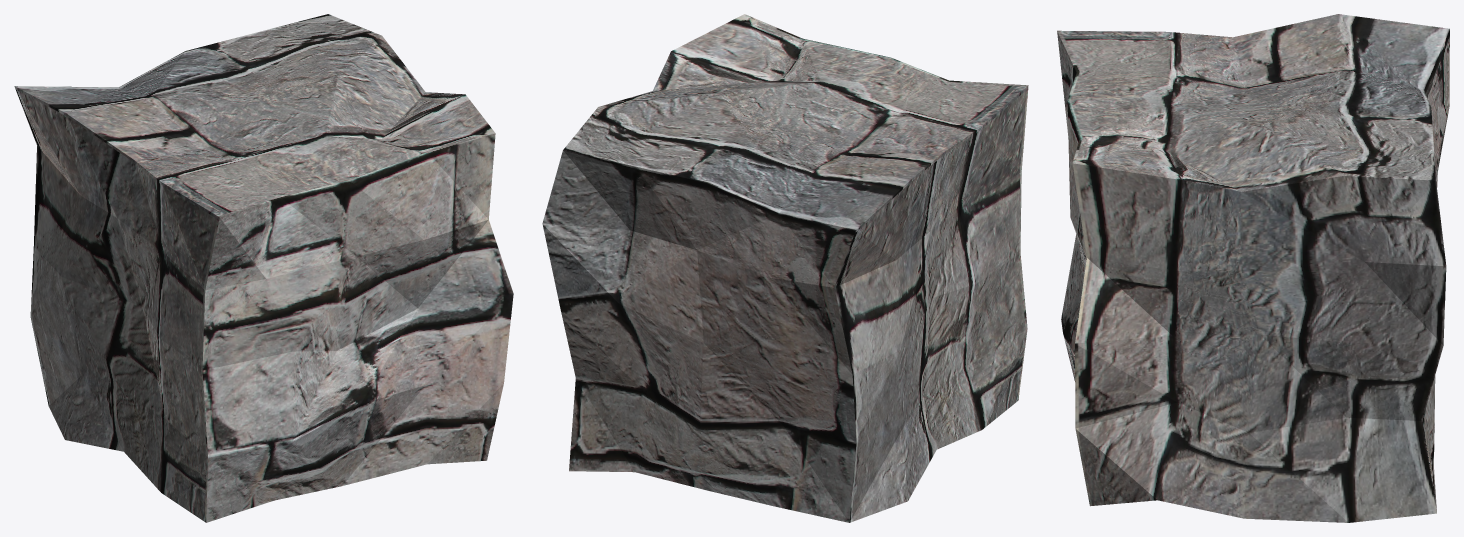
The model's file is WallDisplayMesh0.obj.
3 renders of one model, left to right at view 1: azimuth 30°, elevation 25°; view 2: azimuth 150°, elevation 25°; view 3: azimuth 270°, elevation 25°, orthographic. The views are drawn at different scales.
Parts seen in each view (by area): view 1: Cube_Cube.001; view 2: Cube_Cube.001; view 3: Cube_Cube.001.
Boxes of the visible parts, <box> form: Cube_Cube.001: <box>14,14,513,522</box>; Cube_Cube.001: <box>542,14,1028,522</box>; Cube_Cube.001: <box>1057,14,1449,522</box>.
Size of the model in its own units: 1.09 by 1.1 by 1.11.
1 material, 1 textured.
